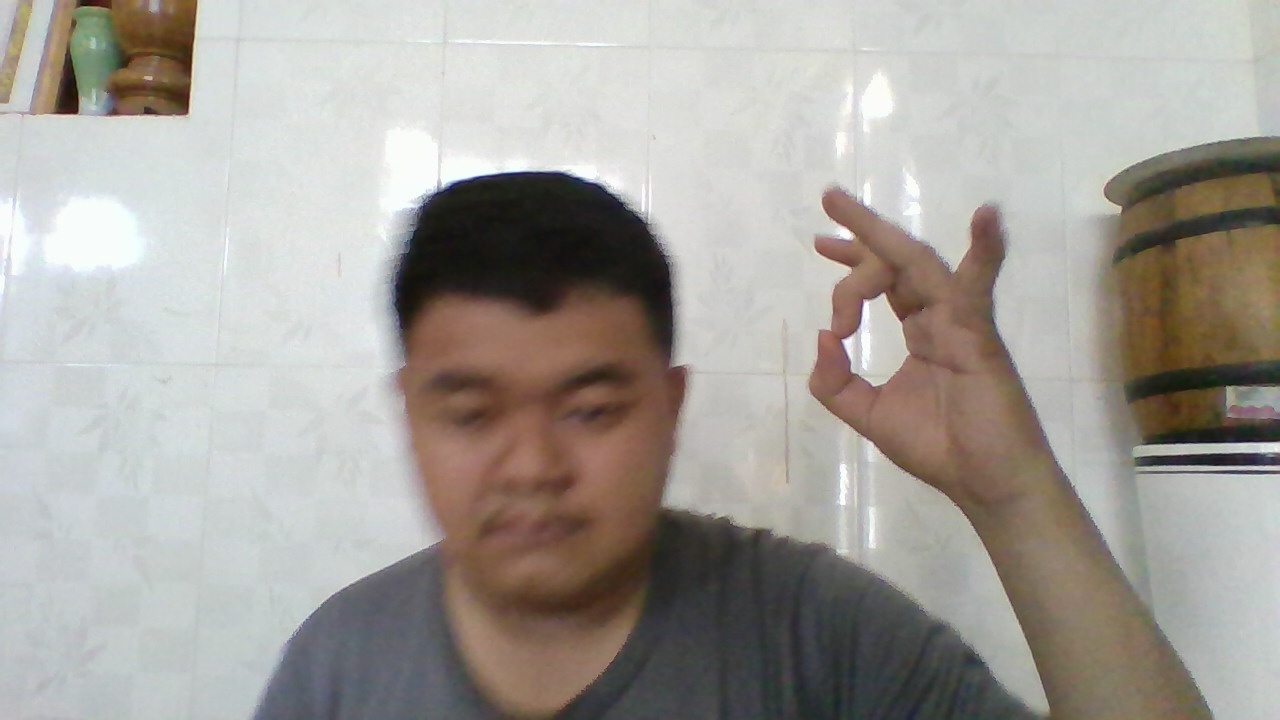H: (805, 187, 1017, 501)
